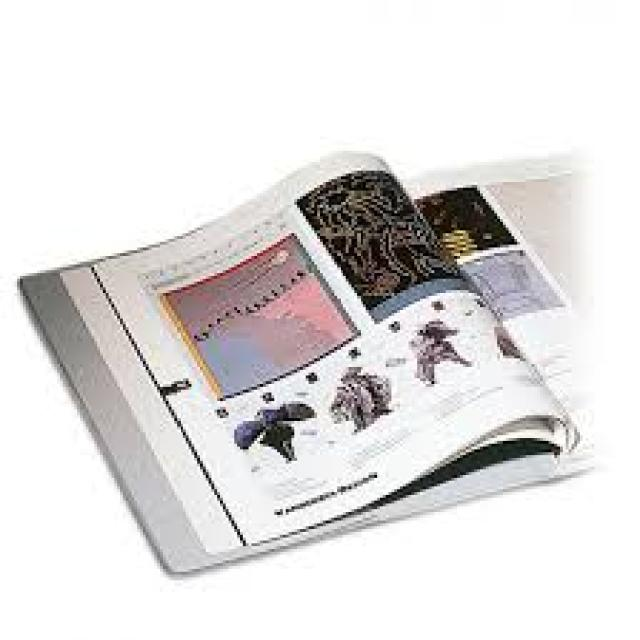paper: (20, 154, 589, 569)
